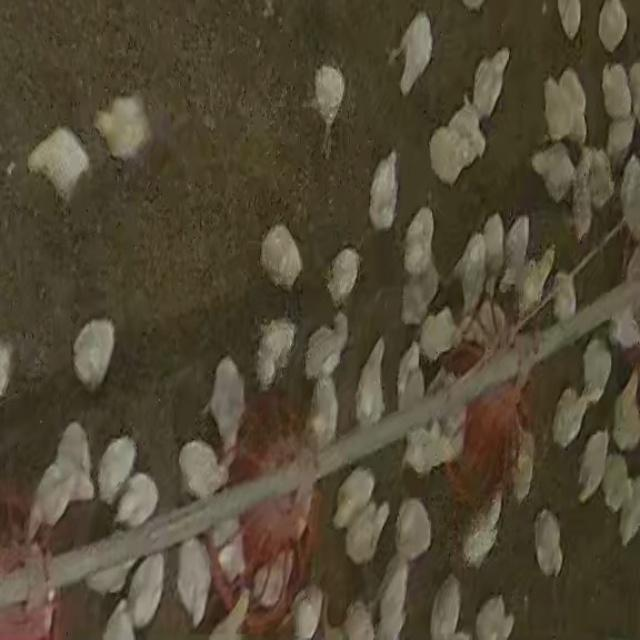chicken: (428, 102, 488, 188), (27, 126, 92, 204), (24, 458, 77, 547), (93, 95, 150, 162), (206, 357, 246, 452), (541, 67, 589, 146), (401, 419, 461, 478), (72, 317, 116, 395), (393, 11, 433, 96), (175, 536, 212, 626), (126, 549, 168, 628), (353, 335, 389, 427), (95, 433, 139, 507), (460, 493, 504, 567), (177, 439, 227, 503), (528, 143, 577, 208), (344, 498, 390, 566), (259, 220, 303, 291), (254, 318, 298, 388), (332, 467, 380, 531), (452, 233, 488, 318), (302, 315, 347, 383), (114, 469, 162, 532), (2, 551, 47, 618), (470, 49, 511, 122), (498, 214, 532, 299), (516, 245, 555, 319), (252, 552, 296, 615), (393, 498, 436, 562), (378, 555, 412, 634), (611, 361, 640, 453), (550, 387, 591, 451), (573, 432, 610, 502), (367, 154, 400, 231), (202, 588, 252, 638), (312, 64, 346, 136), (402, 206, 436, 278), (580, 147, 614, 218), (55, 420, 93, 482), (600, 454, 632, 526), (532, 508, 564, 578), (418, 310, 459, 364), (400, 269, 438, 327), (308, 378, 340, 446), (580, 336, 614, 400), (326, 247, 362, 307), (617, 151, 640, 241), (88, 552, 134, 597), (480, 211, 507, 285), (430, 576, 462, 638), (601, 60, 634, 120), (395, 338, 423, 406), (510, 434, 536, 506), (215, 532, 247, 590), (609, 293, 639, 353), (291, 587, 326, 638), (604, 117, 637, 171), (474, 598, 513, 640), (617, 475, 640, 546), (571, 173, 596, 238), (549, 270, 577, 328), (597, 0, 628, 51), (340, 602, 376, 640), (102, 603, 136, 639), (1, 337, 18, 407), (556, 0, 582, 40)
